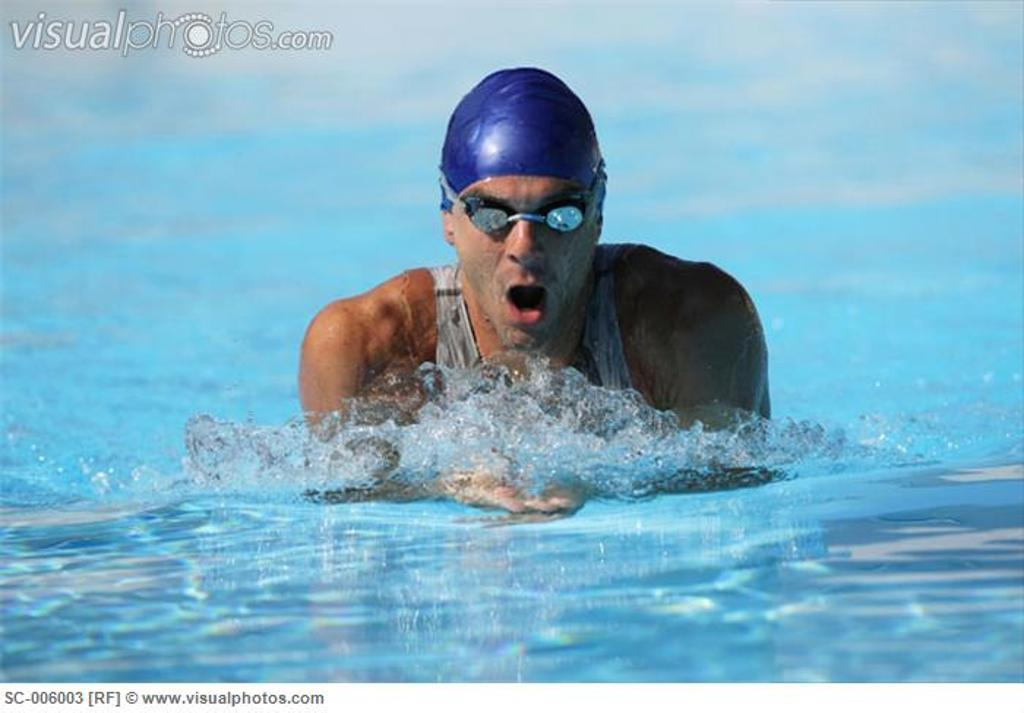face: (462, 164, 596, 344)
